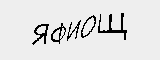И: (66, 18, 80, 41)
О: (80, 12, 98, 38)
Ф: (51, 19, 66, 46)
Щ: (98, 13, 130, 41)
Я: (32, 23, 49, 45)
